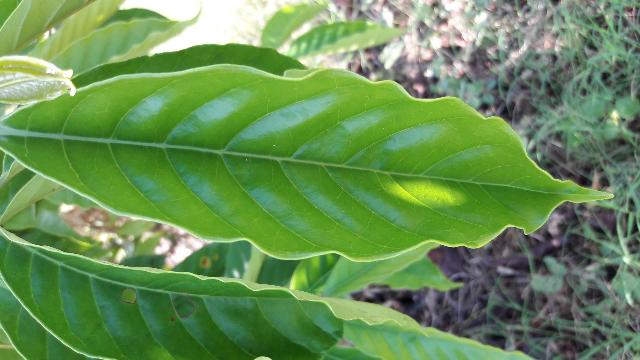healthy: (4, 68, 613, 258)
